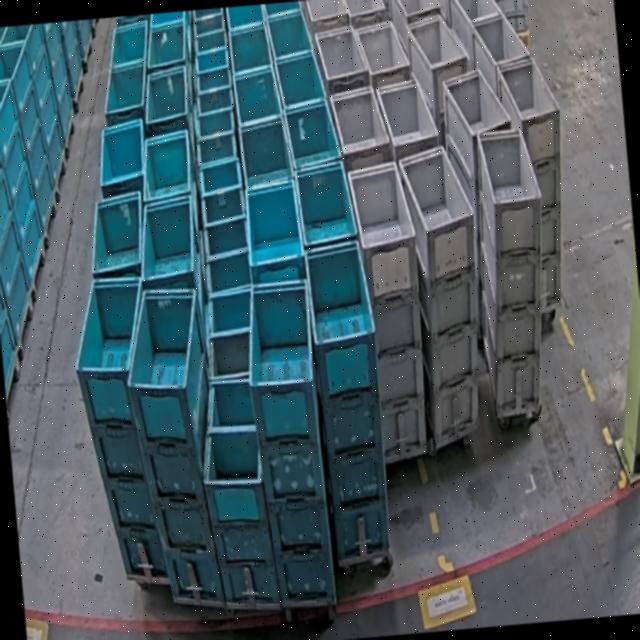4G: (396, 142, 494, 447), (464, 125, 560, 414), (346, 159, 434, 460), (494, 54, 576, 308)
B4: (118, 280, 230, 610), (66, 273, 170, 588), (239, 277, 336, 610), (302, 237, 396, 560)
B8: (193, 374, 283, 612)
